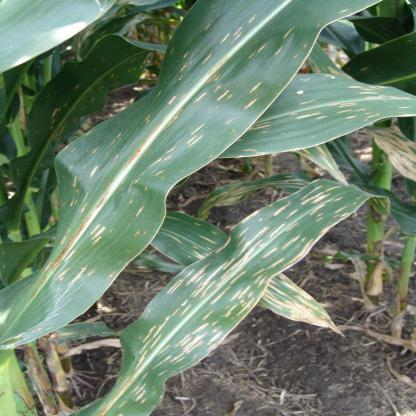corn leaf blight: (12, 1, 396, 336), (81, 186, 379, 416), (5, 29, 172, 208), (219, 71, 414, 165)
